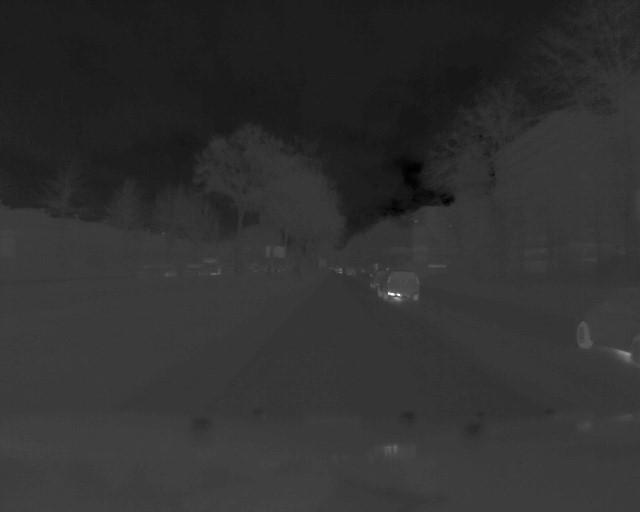car: (574, 287, 640, 364), (377, 270, 423, 305)
